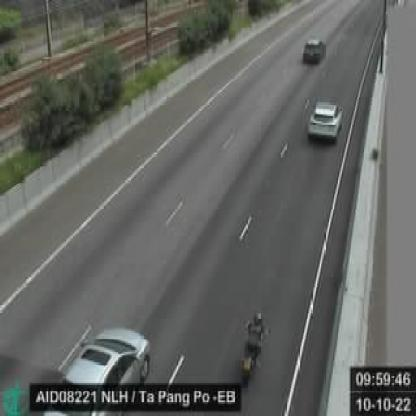Car: (54, 324, 152, 405), (306, 99, 342, 142), (304, 37, 325, 63)
